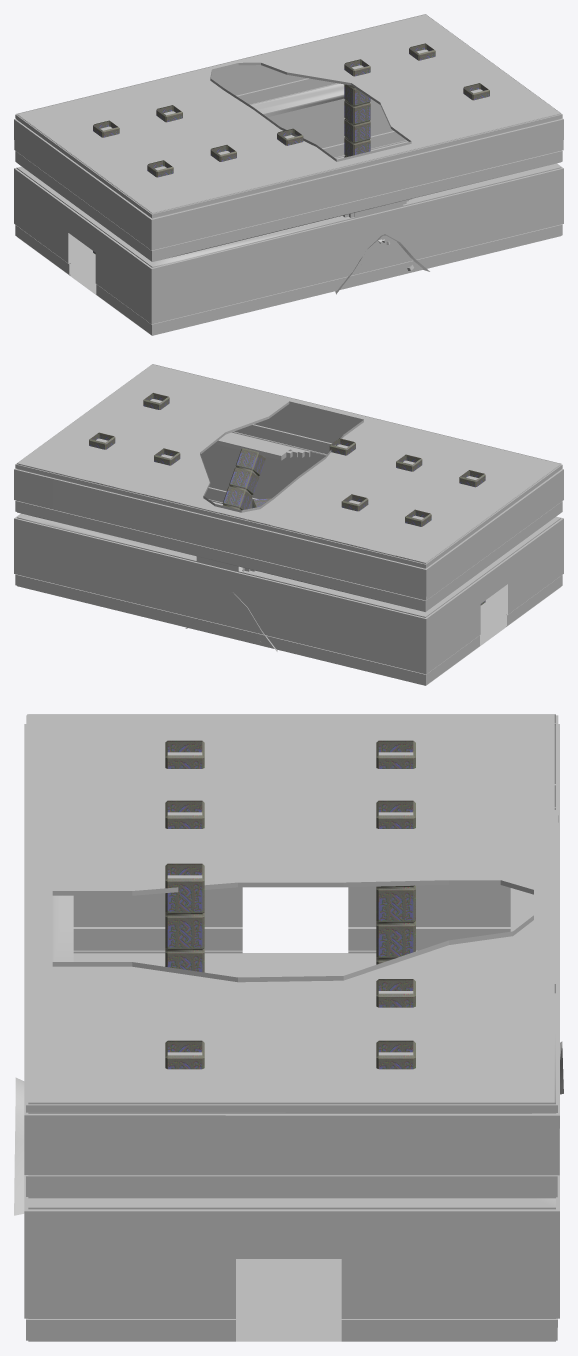
File: Kazadum 2.FBX
The picture shows the model from 3 angles, top to bottom: view 1: azimuth 30°, elevation 25°; view 2: azimuth 150°, elevation 25°; view 3: azimuth 270°, elevation 25°; orthographic projection. The views are drawn at different scales.
Visible parts, largest first — view 1: Object008, sol039, grand mur010, pillier089, sol038; view 2: Object008, sol039, grand mur010, pillier088, sol038; view 3: sol039, grand mur009, grand mur010, sol038, Object008, pillier093, pillier094, brique065, pillier086, pillier087, pillier095, pillier085 (+2 smaller).
Part boxes in pixels (x1=…): Object008: x1=14, y1=14, x2=563, y2=335; sol039: x1=17, y1=14, x2=560, y2=213; grand mur010: x1=14, y1=114, x2=155, y2=335; pillier089: x1=344, y1=59, x2=370, y2=157; sol038: x1=17, y1=141, x2=408, y2=335; Object008: x1=14, y1=364, x2=562, y2=685; sol039: x1=17, y1=364, x2=561, y2=562; grand mur010: x1=422, y1=464, x2=563, y2=685; pillier088: x1=221, y1=448, x2=265, y2=518; sol038: x1=180, y1=501, x2=560, y2=685; sol039: x1=27, y1=714, x2=554, y2=1102; grand mur009: x1=24, y1=1102, x2=559, y2=1341; grand mur010: x1=25, y1=714, x2=558, y2=953; sol038: x1=73, y1=953, x2=555, y2=1341; Object008: x1=24, y1=715, x2=559, y2=1319; pillier093: x1=165, y1=863, x2=204, y2=972; pillier094: x1=376, y1=800, x2=415, y2=964; brique065: x1=14, y1=1077, x2=24, y2=1215; pillier086: x1=376, y1=1040, x2=415, y2=1069; pillier087: x1=165, y1=1040, x2=204, y2=1069; pillier095: x1=165, y1=800, x2=204, y2=828; pillier085: x1=376, y1=740, x2=415, y2=768.
Bounding box in the file's own units: 1756 × 565 × 1042.
